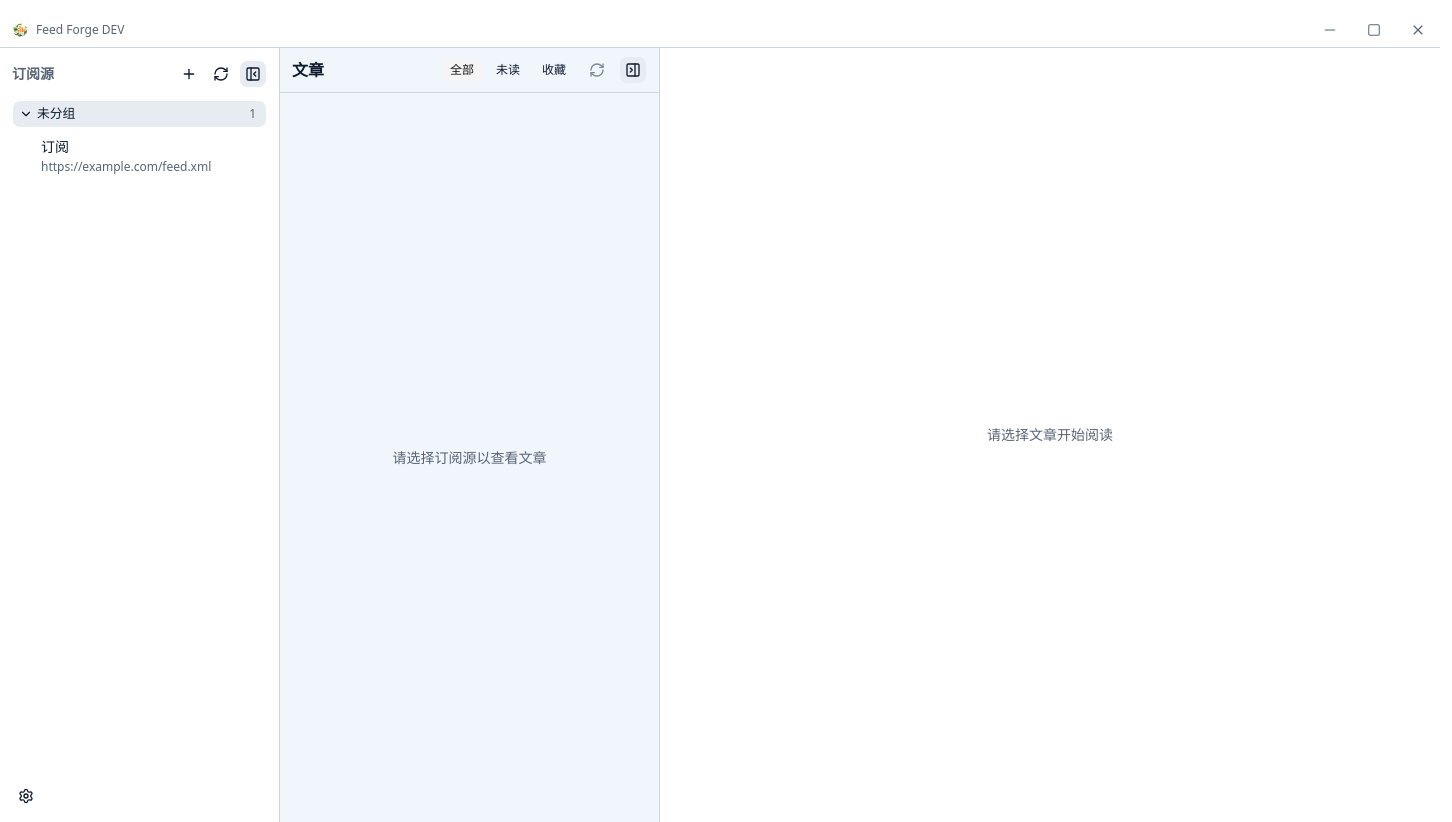
Test: opening an already read article does not write its read state again
The width and height of the screenshot is (1452, 822).
Click the list item named "订阅https" at (148, 156), box x1=28 y1=128 x2=267 y2=184
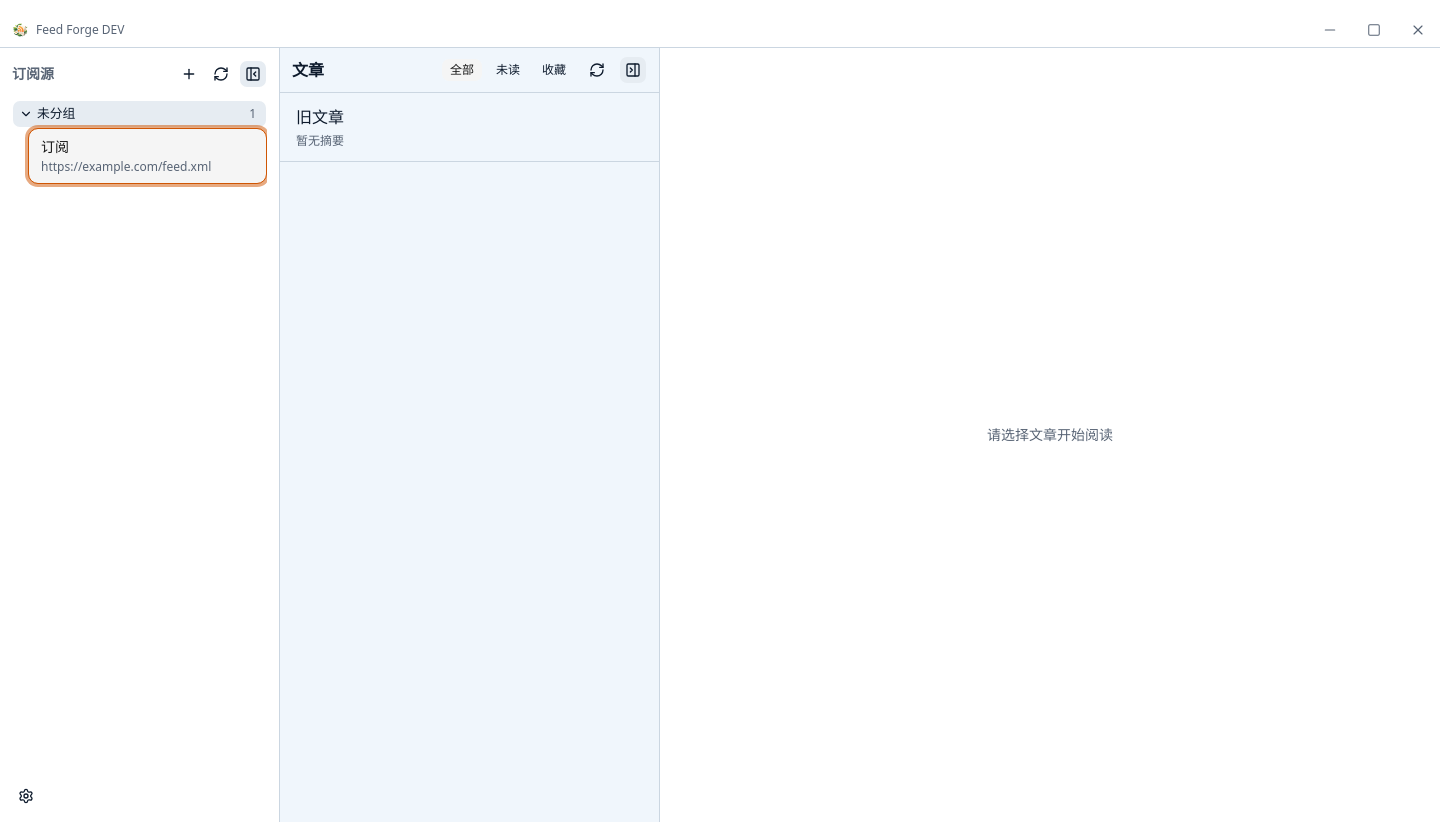
Click the button "旧文章 暂无摘要" at (320, 117), box x1=280 y1=93 x2=659 y2=161
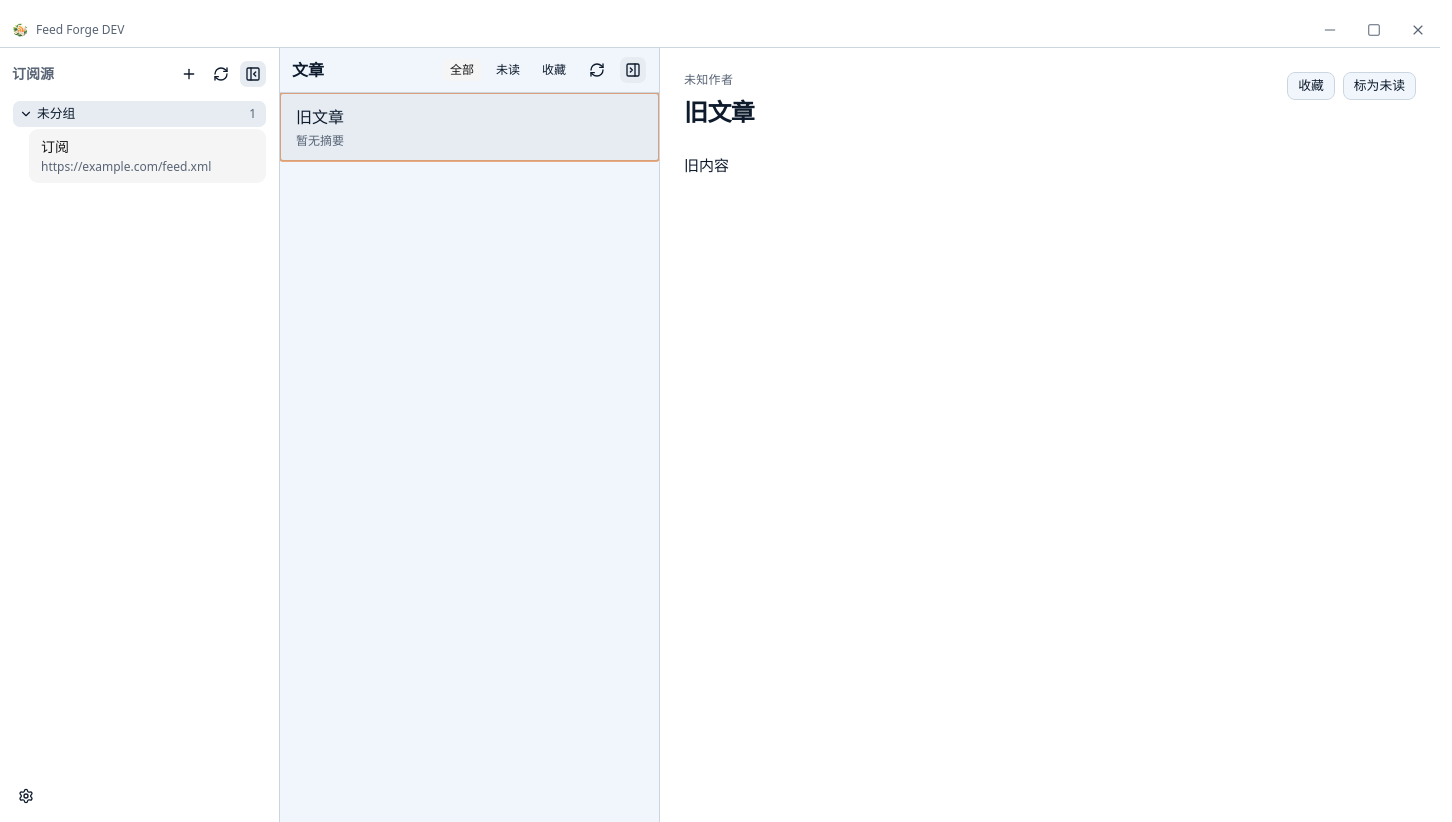
Expected: the element showing "未知作者 旧文章 收藏 标为未读 旧内容" is shown, x1=684 y1=71 x2=1416 y2=175
Expected: the button "标为未读" is shown, x1=1343 y1=72 x2=1416 y2=100
